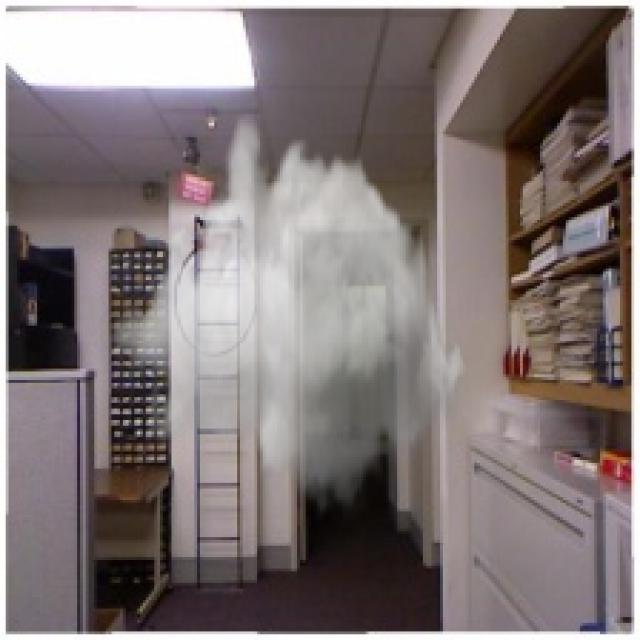Smoke: (109, 108, 468, 520)
